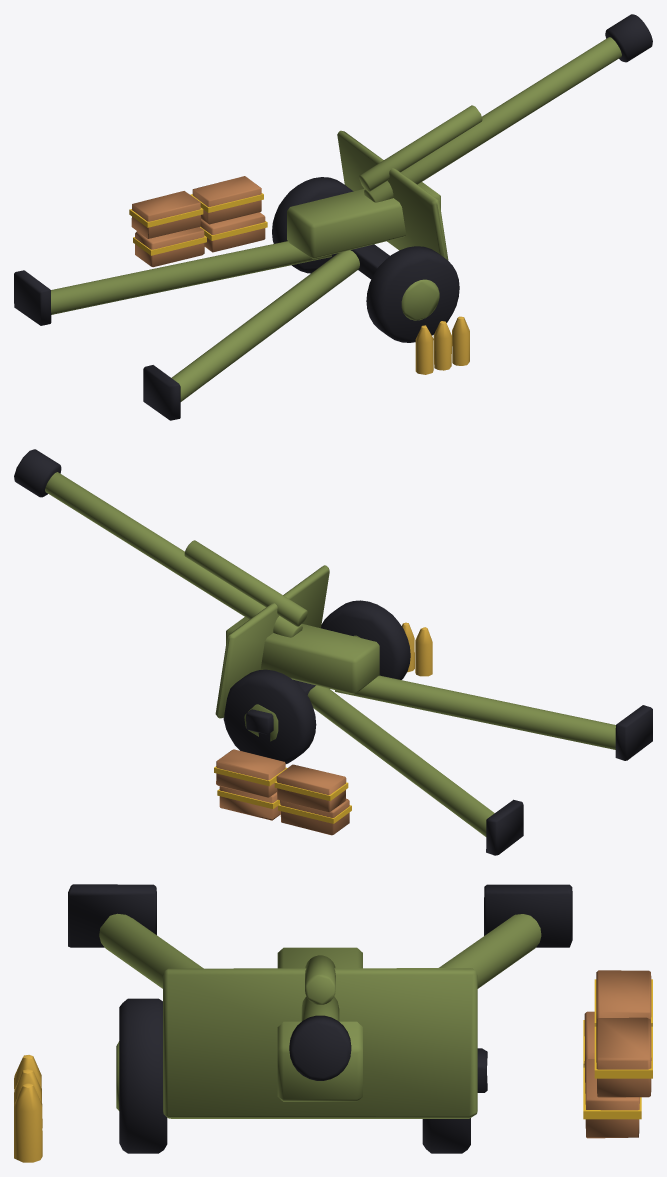
Rendered from howitzer.glb.
3 views of the same model, one above another, from view 1: azimuth 30°, elevation 25°; view 2: azimuth 150°, elevation 25°; view 3: azimuth 270°, elevation 25° (orthographic). The views are drawn at different scales.
Parts seen in each view (by area): view 1: howitzer.001, barrel.018; view 2: howitzer.001, barrel.018; view 3: howitzer.001, barrel.018.
Part boxes in pixels (bbox=[...]): howitzer.001: bbox=[14, 130, 469, 420]; barrel.018: bbox=[359, 14, 652, 202]; howitzer.001: bbox=[214, 565, 652, 855]; barrel.018: bbox=[14, 449, 307, 637]; howitzer.001: bbox=[14, 884, 652, 1162]; barrel.018: bbox=[289, 955, 351, 1080].
Size of the model in its own units: 9.19 by 3.39 by 5.69.
1 material, 1 textured.
